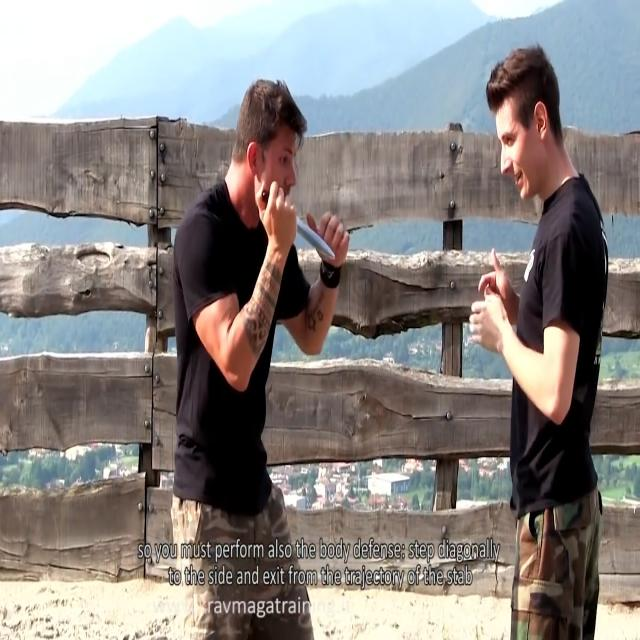knife: (296, 208, 337, 262)
